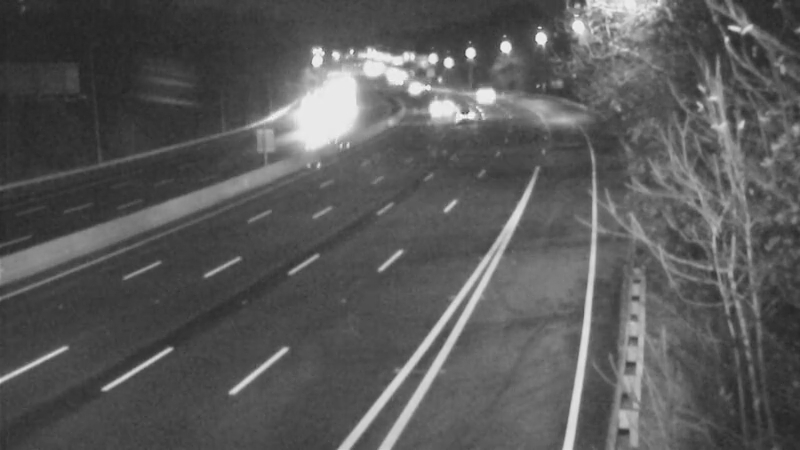vehicle: (454, 72, 504, 122), (406, 77, 456, 127), (443, 94, 493, 144), (281, 111, 331, 161)
